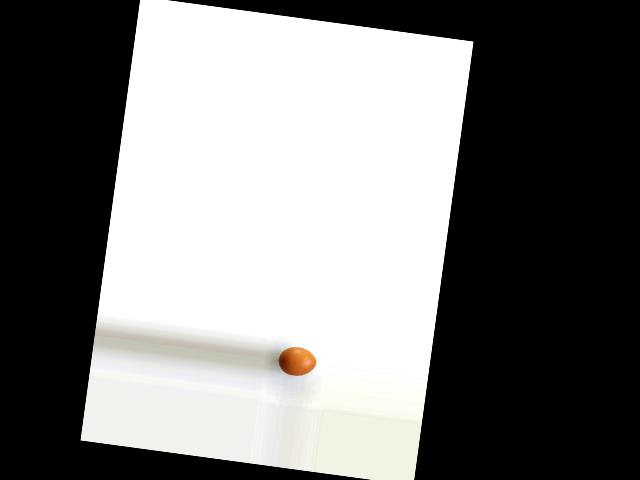egg: (276, 345, 318, 379)
